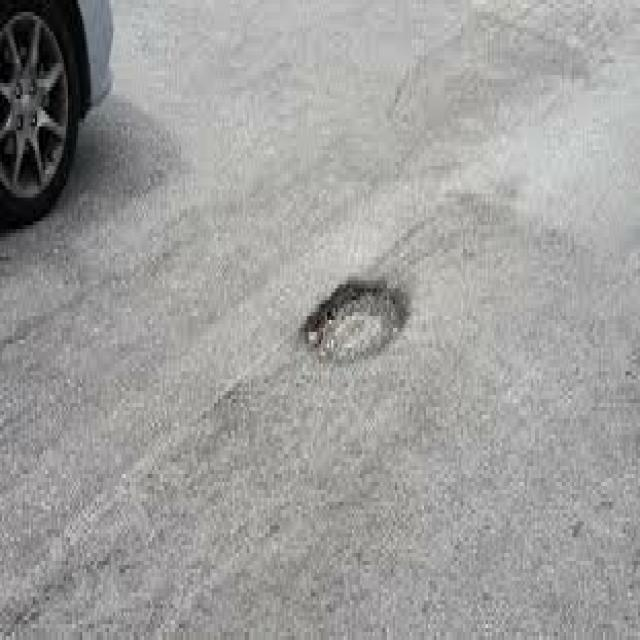Pothole: (290, 210, 500, 510)
